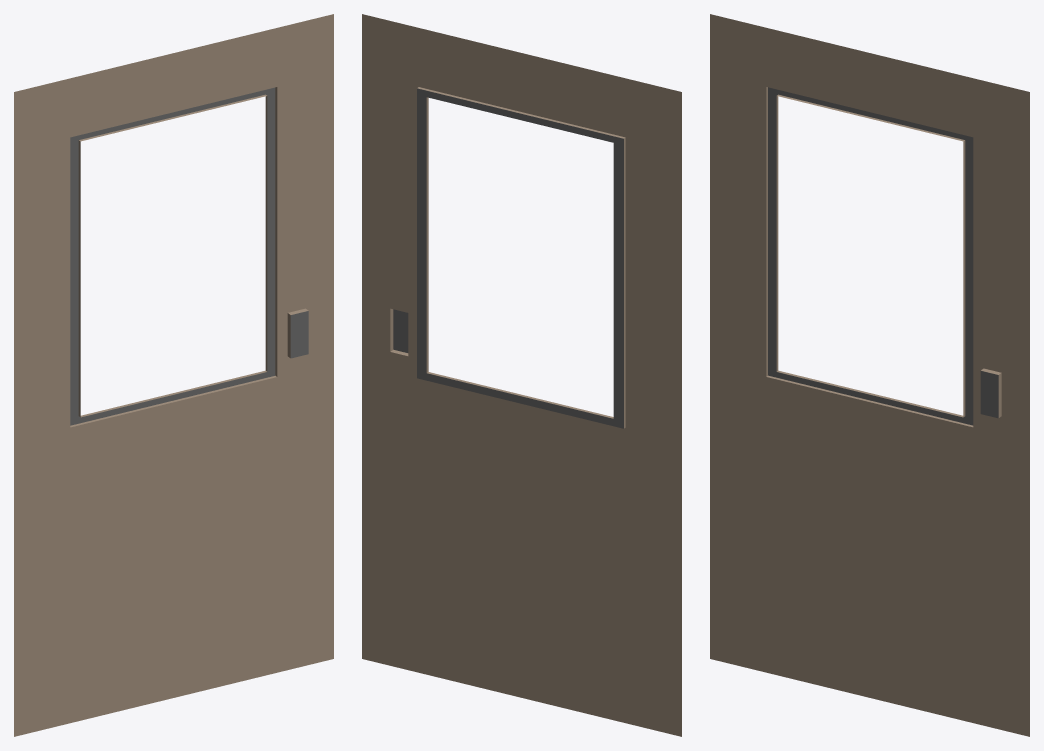
Rendered from Door.fbx.
The picture shows the model from 3 angles, left to right: view 1: azimuth 30°, elevation 25°; view 2: azimuth 150°, elevation 25°; view 3: azimuth 330°, elevation 25°; orthographic projection.
Visible parts, largest first — view 1: SlidingDoor; view 2: SlidingDoor; view 3: SlidingDoor.
Boxes of the visible parts, <box> form: SlidingDoor: <box>14,14,333,736</box>; SlidingDoor: <box>362,14,681,736</box>; SlidingDoor: <box>710,14,1029,736</box>.
Size of the model in its own units: 1.89 by 3.63 by 0.0498.
